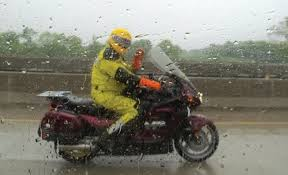motorcycle: (36, 46, 219, 161)
